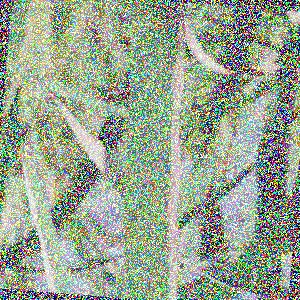Leaf_Blast: (122, 3, 191, 299)
